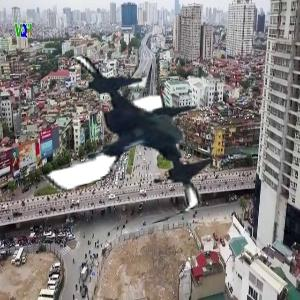drone: (12, 36, 218, 242)
